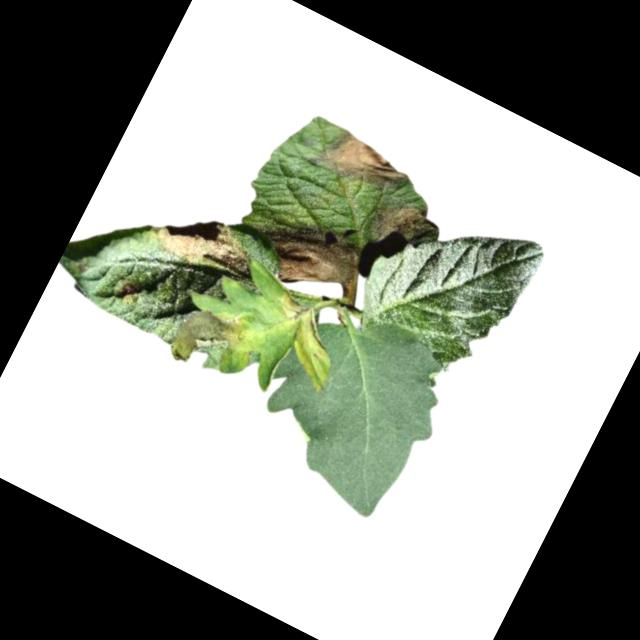Late_blight: (246, 202, 372, 311), (148, 192, 271, 292), (164, 291, 263, 388), (307, 121, 416, 207), (256, 289, 342, 372), (362, 189, 437, 259), (115, 279, 143, 306)
